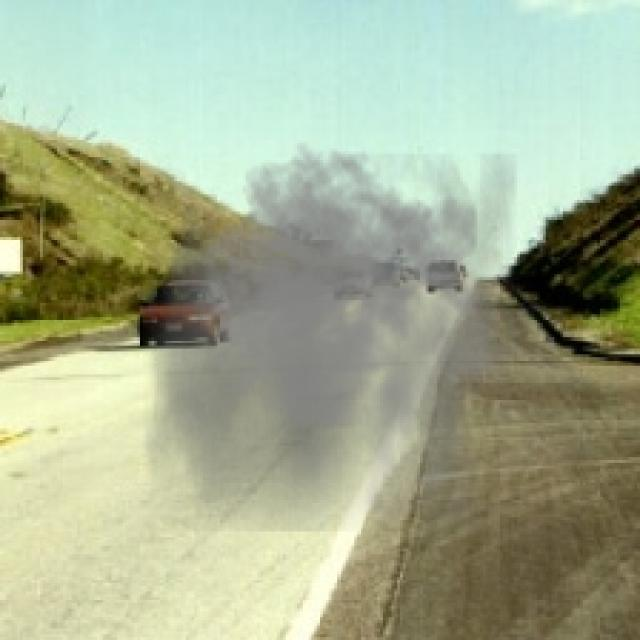smoke: (143, 140, 517, 531)
